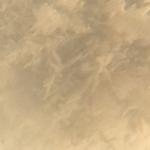dead: (3, 2, 147, 148)
